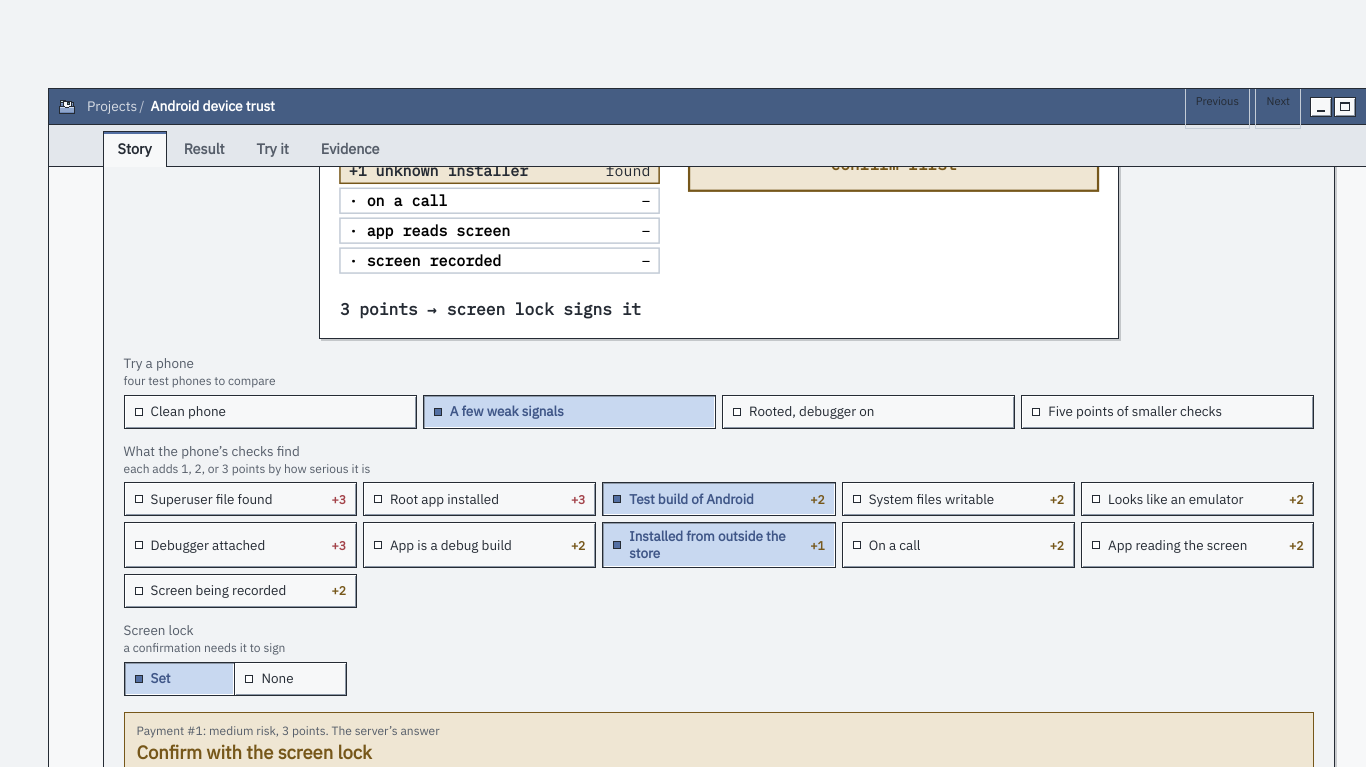
DebuggerWorkspace › scores the story's phone as the repo does, with no old-rules toggle, and returns to the story on request
The width and height of the screenshot is (1366, 767).
Later steps or results of the test are not shown.
(page scrolled)
Expected: the text "Confirm with the screen lock" is shown, [137,740,372,764]
Expected: the button "Reset" is not shown
# A root app is a high-severity check: it blocks on its own.
Click the button "Root app installed +3": (480, 499) [363,482,596,516]
Wait 500 ms
(page scrolled)
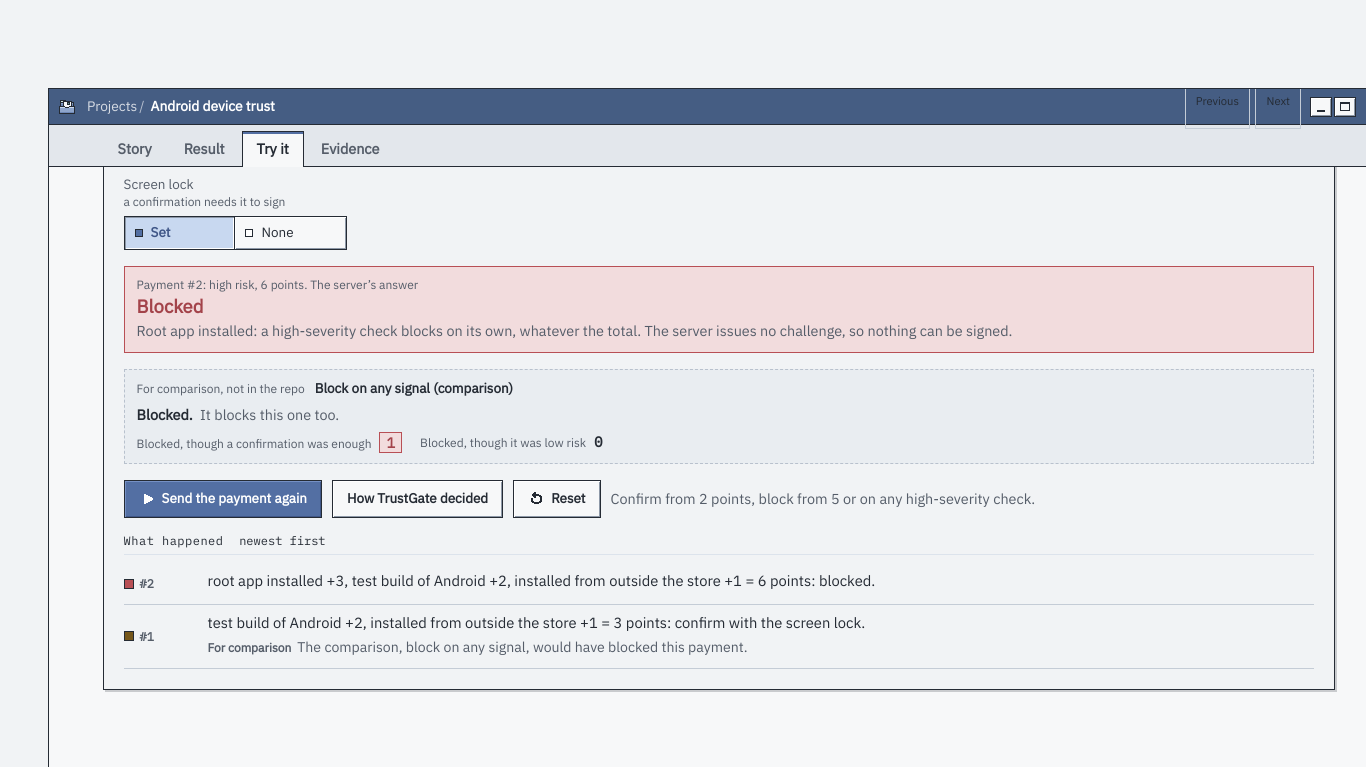
Result: the text "Blocked" is shown at [137,294,203,318]
Result: the number of list items is 2 at [124,563,1314,605]; [124,605,1314,669]
